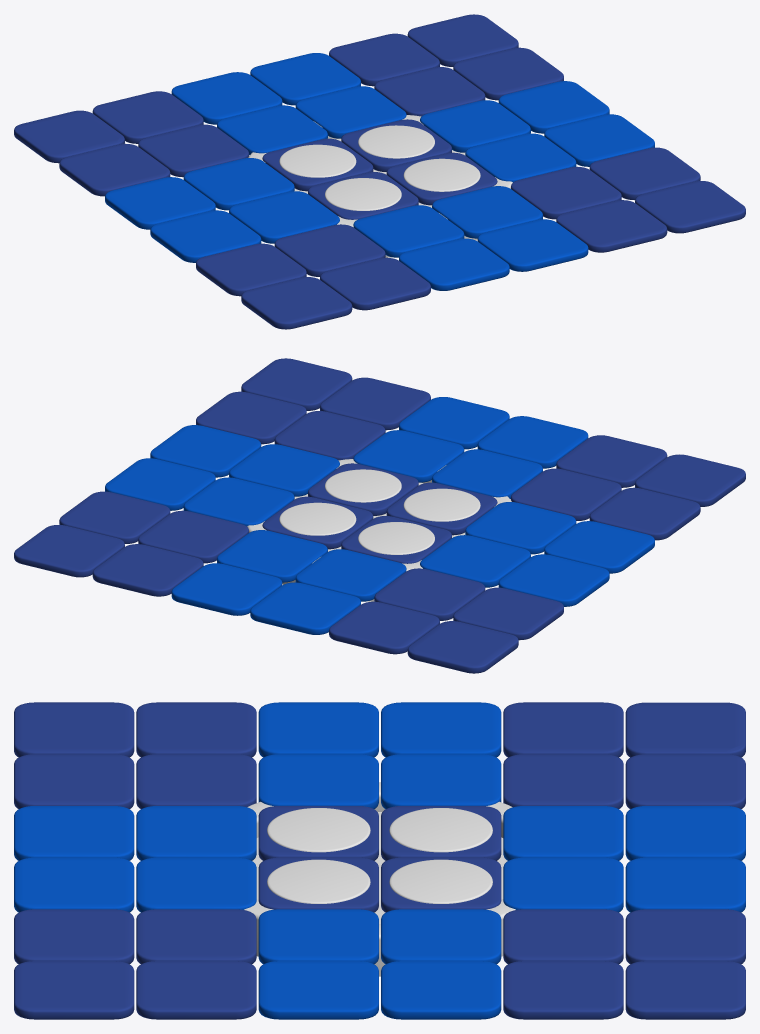
File: Assets.fbx
The picture shows the model from 3 angles, top to bottom: view 1: azimuth 30°, elevation 25°; view 2: azimuth 150°, elevation 25°; view 3: azimuth 270°, elevation 25°; orthographic projection. The views are drawn at different scales.
Parts seen in each view (by area): view 1: Cube.035, Cube.038, Cube.036, Cube.039, Cube.040, Cube.037, Cube.011, Cube.023, Cube.017, Cube.029, Cube.008, Cube.001 (+29 smaller); view 2: Cube.008, Cube.009, Cube.002, Cube.003, Cube.001, Cube.010, Cube.029, Cube.011, Cube.017, Cube.023, Cube.035, Cube.016 (+29 smaller); view 3: Cube.016, Cube.034, Cube.022, Cube.028, Cube.010, Cube.040, Cube.011, Cube.029, Cube.003, Cube.038, Cube.017, Cube.023 (+29 smaller).
Part boxes in pixels (x1,y1,x2,y2): Cube.035: (241, 277, 352, 329); Cube.038: (477, 219, 588, 271); Cube.036: (320, 257, 430, 310); Cube.039: (556, 200, 667, 252); Cube.040: (635, 181, 745, 233); Cube.037: (399, 238, 509, 290); Cube.011: (59, 143, 170, 196); Cube.023: (150, 210, 261, 262); Cube.017: (105, 177, 215, 229); Cube.029: (196, 243, 306, 296); Cube.008: (14, 110, 124, 163); Cube.001: (92, 91, 203, 143); Cube.008: (407, 621, 518, 673); Cube.009: (92, 544, 203, 596); Cube.002: (250, 582, 360, 634); Cube.003: (171, 563, 282, 615); Cube.001: (329, 601, 439, 654); Cube.010: (14, 525, 124, 577); Cube.029: (589, 487, 700, 540); Cube.011: (453, 587, 563, 640); Cube.017: (498, 554, 609, 606); Cube.023: (544, 521, 654, 573); Cube.035: (635, 454, 745, 506); Cube.016: (59, 491, 170, 543); Cube.016: (503, 961, 623, 1019); Cube.034: (136, 961, 256, 1019); Cube.022: (381, 961, 501, 1019); Cube.028: (258, 961, 378, 1019); Cube.010: (625, 961, 745, 1019); Cube.040: (14, 961, 134, 1019); Cube.011: (503, 702, 623, 757); Cube.029: (136, 702, 256, 757); Cube.003: (625, 857, 745, 912); Cube.038: (14, 857, 134, 912); Cube.017: (381, 702, 501, 757); Cube.023: (258, 702, 378, 757).
Size of the model in its own units: 5.98 by 0.3962 by 5.98.
